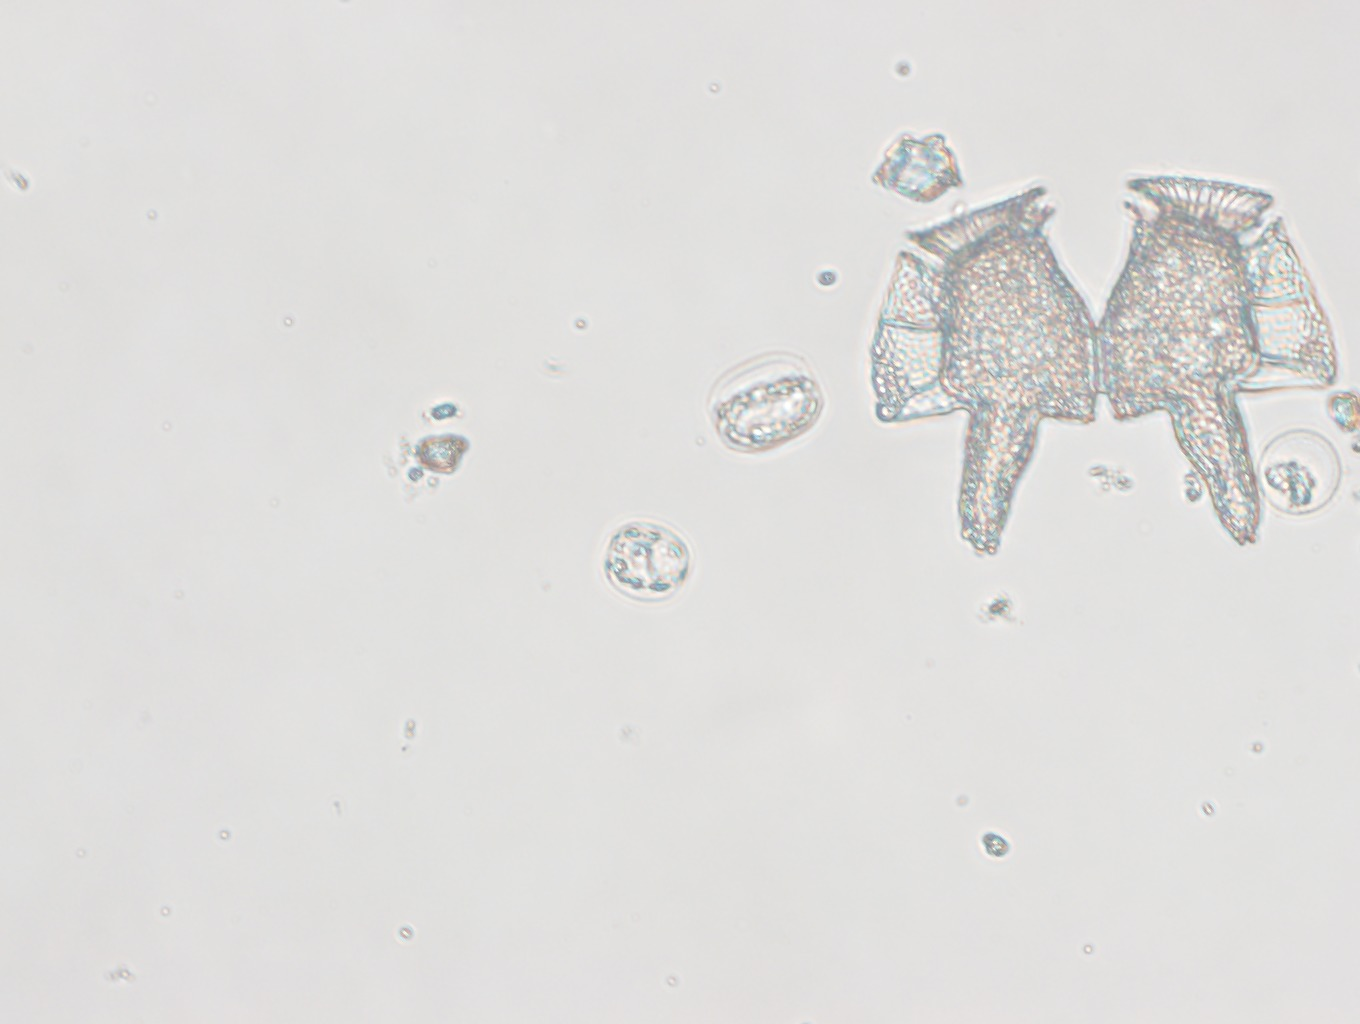dinophysis caudata: (860, 175, 1350, 561)
